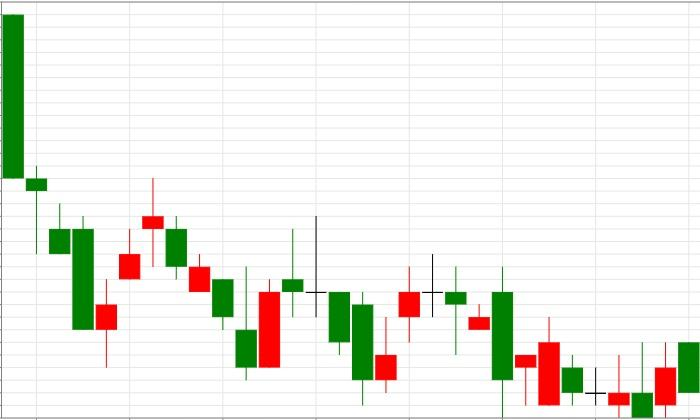inverse_hammer_rise: (142, 178, 256, 381)
